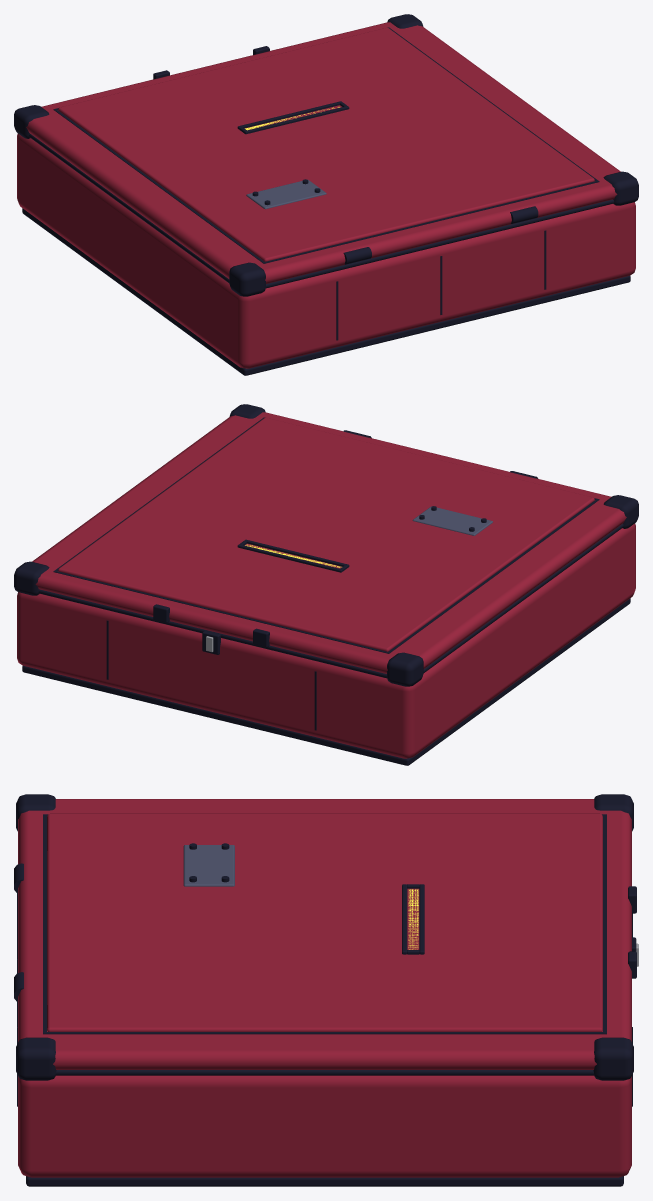
The model's file is roof.accent.w2.d2.v1.glb.
The picture shows the model from 3 angles, top to bottom: view 1: azimuth 30°, elevation 25°; view 2: azimuth 150°, elevation 25°; view 3: azimuth 270°, elevation 25°; orthographic projection. The views are drawn at different scales.
Parts seen in each view (by area): view 1: roof.accent.w2.d2.v1; view 2: roof.accent.w2.d2.v1; view 3: roof.accent.w2.d2.v1.
Boxes of the visible parts, box(x1,y1,x2,y2) form: roof.accent.w2.d2.v1: box(14, 14, 638, 375); roof.accent.w2.d2.v1: box(14, 404, 638, 765); roof.accent.w2.d2.v1: box(14, 794, 638, 1186).
Bounding box in the file's own units: 1.92 × 0.501 × 1.94.
